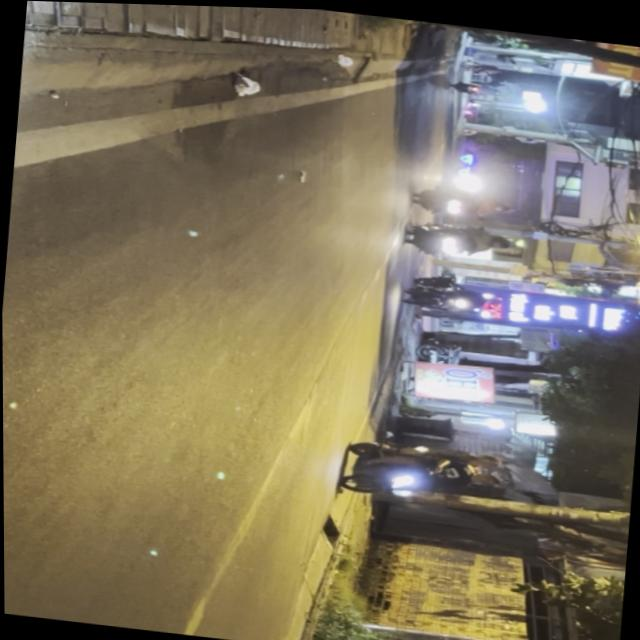licenseplate: (334, 430, 505, 509)
